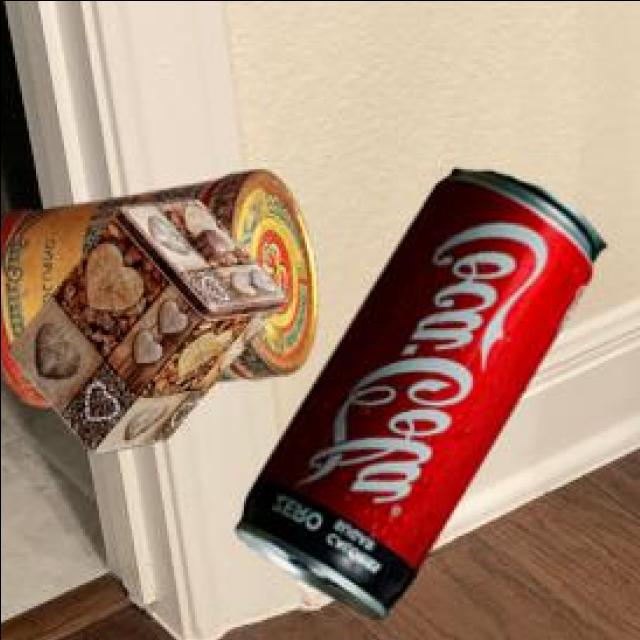logam: (239, 165, 608, 615), (0, 167, 319, 403), (11, 195, 288, 450)
